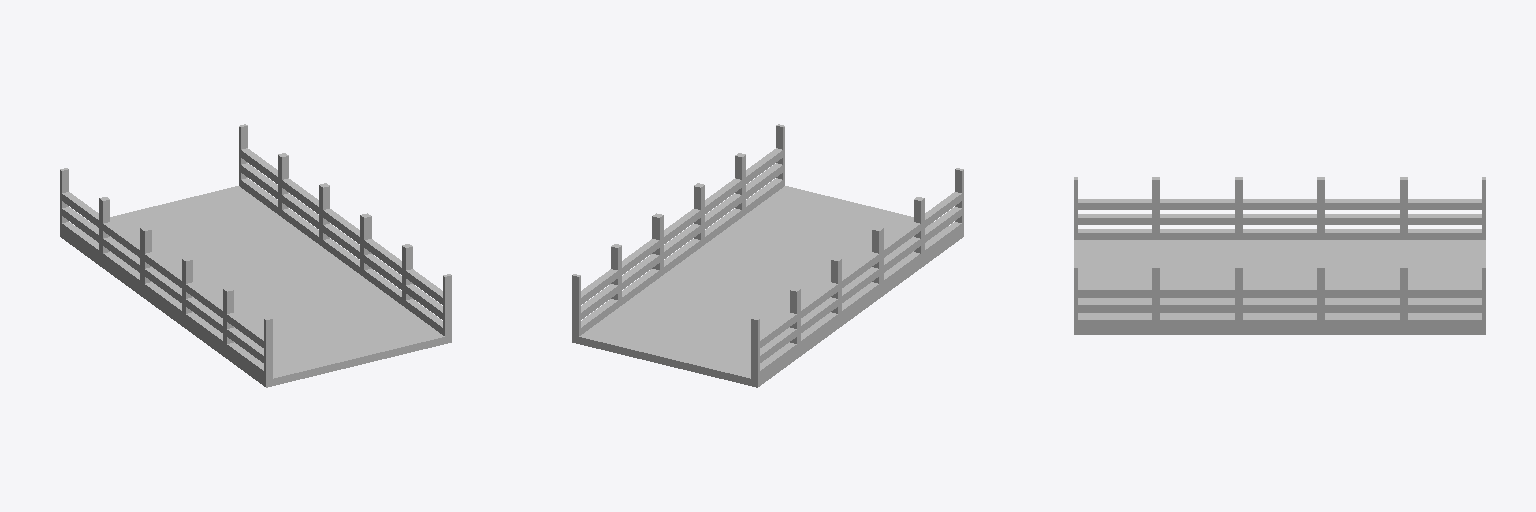
File: Bridge.obj
3 renders of one model, left to right at view 1: azimuth 30°, elevation 25°; view 2: azimuth 150°, elevation 25°; view 3: azimuth 270°, elevation 25°, orthographic.
Visible parts, largest first — view 1: object 1; view 2: object 1; view 3: object 1.
Boxes of the visible parts, <box> form: object 1: <box>60,124,451,387</box>; object 1: <box>572,124,963,387</box>; object 1: <box>1074,177,1485,334</box>.
Size of the model in its own units: 5.2 by 1.8 by 10.